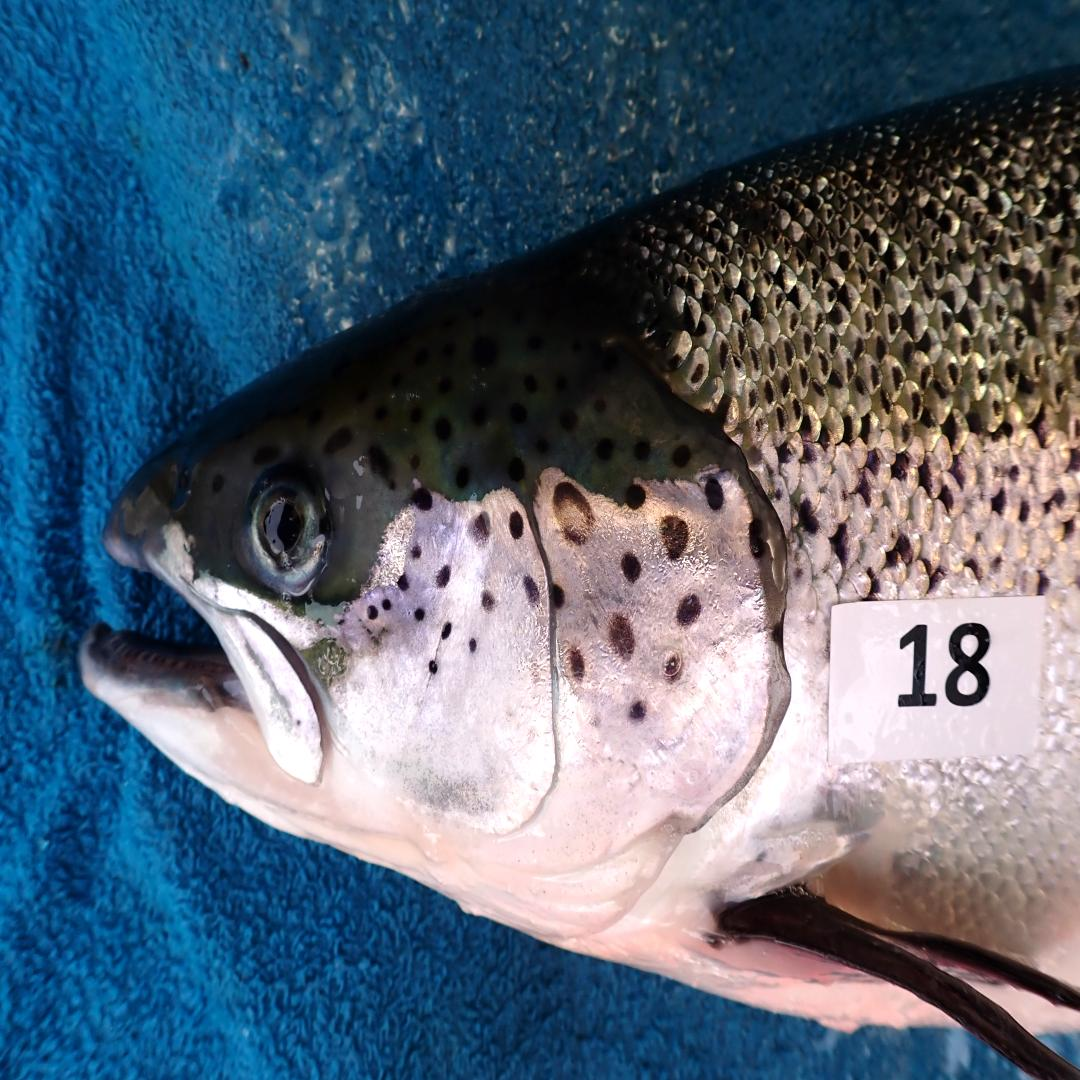roi: (320, 465, 781, 949)
